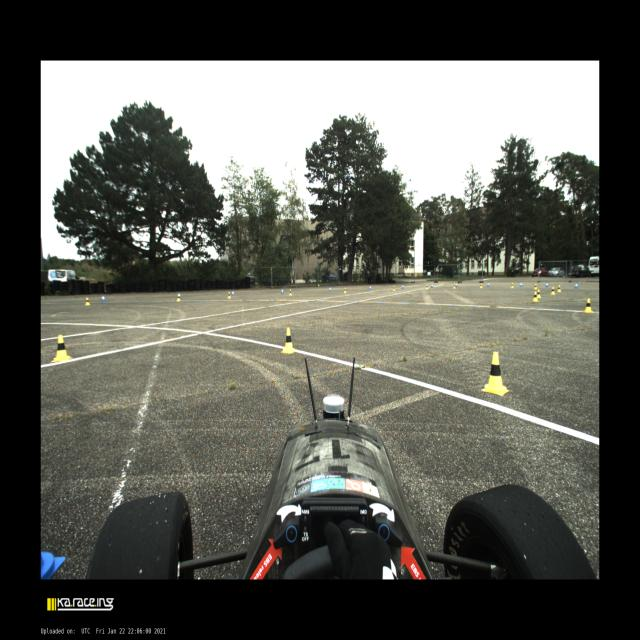blue_cone: (101, 295, 106, 301), (454, 282, 458, 287), (281, 288, 284, 294), (178, 292, 181, 298), (575, 283, 578, 288), (232, 290, 234, 296), (329, 286, 331, 292), (369, 285, 371, 290), (431, 283, 433, 288), (546, 282, 548, 287), (402, 284, 404, 288), (488, 282, 490, 286), (520, 282, 522, 286)
yellow_cone: (482, 352, 509, 395), (52, 335, 72, 362), (281, 328, 295, 353), (584, 298, 593, 313), (532, 292, 538, 302), (85, 297, 90, 305), (550, 286, 555, 294), (227, 291, 231, 299), (557, 285, 561, 292), (538, 289, 541, 298), (177, 294, 180, 302), (289, 289, 292, 296), (534, 284, 537, 290), (511, 282, 514, 288), (453, 284, 456, 288), (344, 287, 346, 293), (480, 283, 482, 288), (426, 284, 428, 289), (393, 286, 395, 291)
